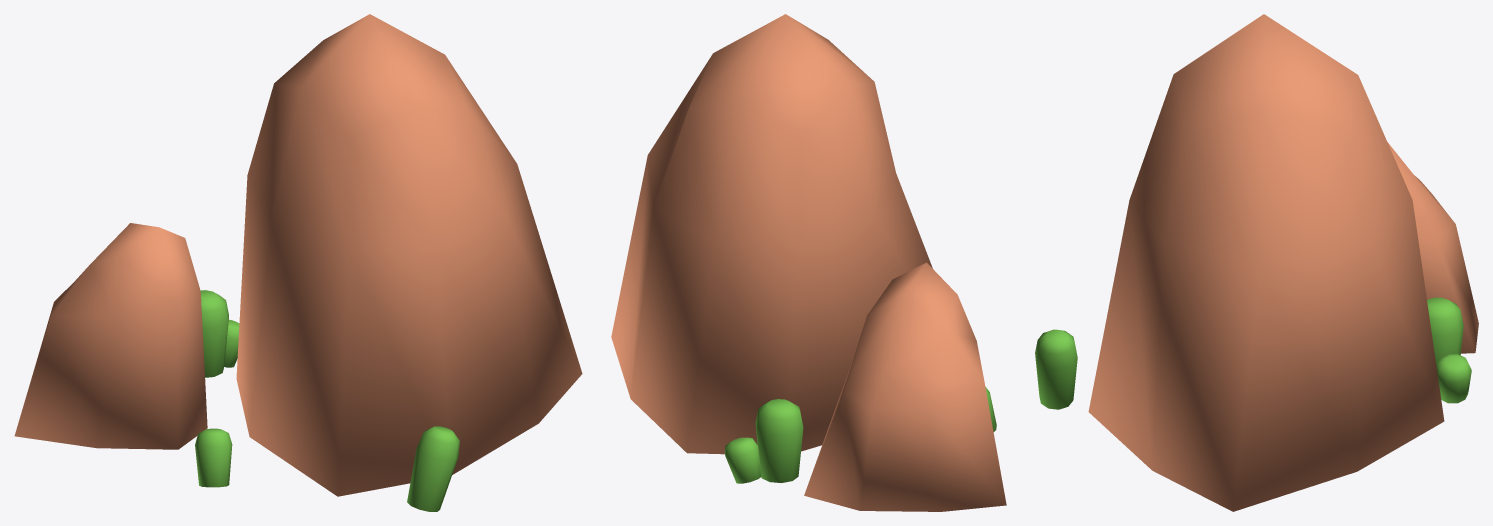
The model's file is Stone1.fbx.
3 views of the same model, side by side, from view 1: azimuth 30°, elevation 25°; view 2: azimuth 150°, elevation 25°; view 3: azimuth 270°, elevation 25° (orthographic). The views are drawn at different scales.
Visible parts, largest first — view 1: Cube, Cube.001, Cylinder.005, Cylinder, Cylinder.006; view 2: Cube, Cube.001, Cylinder, Cylinder.004; view 3: Cube, Cube.001, Cylinder.005, Cylinder, Cylinder.004.
Part boxes in pixels (x1,y1,x2,y2): Cube: [236, 14, 582, 496]; Cube.001: [14, 223, 207, 449]; Cylinder.005: [407, 426, 459, 511]; Cylinder: [200, 290, 228, 377]; Cylinder.006: [195, 428, 232, 487]; Cube: [611, 14, 932, 454]; Cube.001: [804, 262, 1006, 511]; Cylinder: [755, 399, 803, 482]; Cylinder.004: [724, 437, 761, 483]; Cube: [1088, 14, 1444, 511]; Cube.001: [1387, 142, 1478, 353]; Cylinder.005: [1035, 329, 1077, 409]; Cylinder: [1427, 297, 1463, 365]; Cylinder.004: [1436, 354, 1471, 403].
Size of the model in its own units: 439 by 353 by 341.
